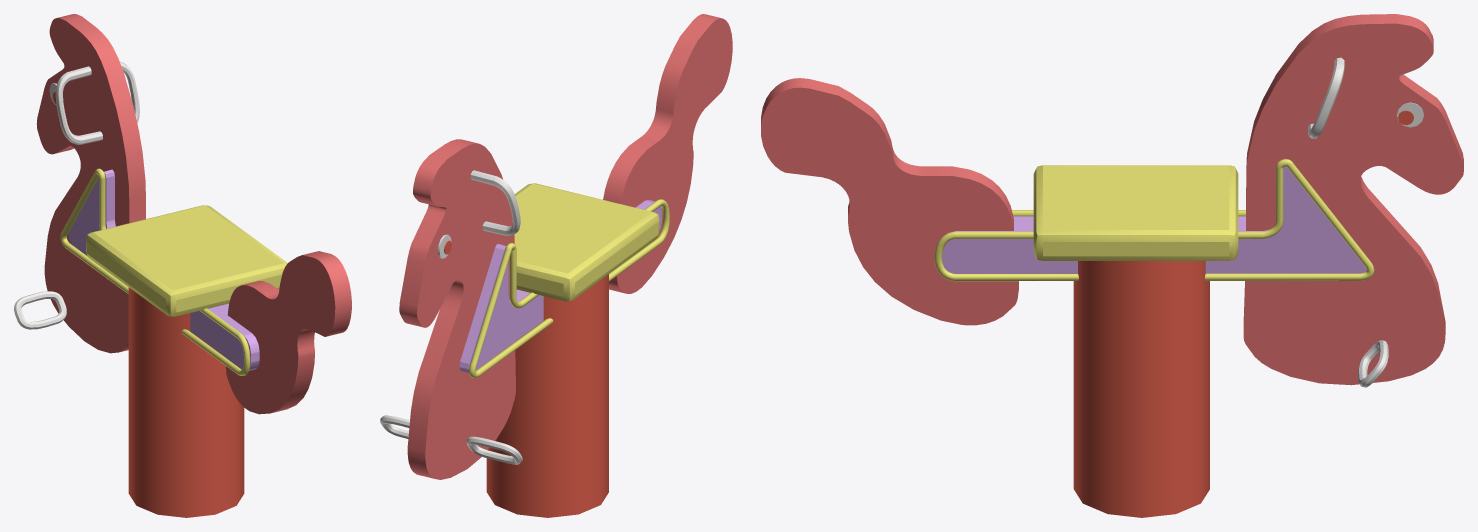
File: Caballito_02.fbx
The picture shows the model from 3 angles, left to right: view 1: azimuth 30°, elevation 25°; view 2: azimuth 150°, elevation 25°; view 3: azimuth 270°, elevation 25°; orthographic projection. The views are drawn at different scales.
Visible parts, largest first — view 1: Caballito_02.003, Caballito_02.013, Caballito_02.004, Caballito_02.012, Caballito_02.014, Caballito_02.015, Caballito_02.002, Caballito_02.001; view 2: Caballito_02.013, Caballito_02.003, Caballito_02.012, Caballito_02.004, Caballito_02.014, Caballito_02.015, Caballito_02.002, Caballito_02.001, Caballito_02; view 3: Caballito_02.013, Caballito_02.003, Caballito_02.012, Caballito_02.004, Caballito_02.014, Caballito_02.016, Caballito_02.002, Caballito_02.
Boxes of the visible parts, box(x1,y1,x2,y2) form: Caballito_02.003: box(128, 287, 244, 517); Caballito_02.013: box(36, 14, 145, 353); Caballito_02.004: box(86, 205, 287, 316); Caballito_02.012: box(226, 251, 351, 414); Caballito_02.014: box(68, 169, 259, 370); Caballito_02.015: box(60, 168, 250, 375); Caballito_02.002: box(55, 61, 139, 144); Caballito_02.001: box(14, 291, 66, 329); Caballito_02.013: box(399, 139, 515, 479); Caballito_02.003: box(486, 274, 608, 517); Caballito_02.012: box(603, 14, 732, 293); Caballito_02.004: box(512, 183, 659, 301); Caballito_02.014: box(459, 199, 661, 372); Caballito_02.015: box(469, 199, 669, 377); Caballito_02.002: box(470, 170, 520, 235); Caballito_02.001: box(466, 436, 522, 464); Caballito_02: box(380, 415, 409, 438); Caballito_02.013: box(1243, 14, 1463, 385); Caballito_02.003: box(1073, 261, 1209, 517); Caballito_02.012: box(761, 78, 1018, 325); Caballito_02.004: box(1033, 165, 1238, 260); Caballito_02.014: box(942, 159, 1366, 273); Caballito_02.016: box(934, 159, 1374, 281); Caballito_02.002: box(1308, 57, 1344, 138); Caballito_02: box(1358, 340, 1388, 387).
Size of the model in its own units: 3.4 by 9.54 by 13.
